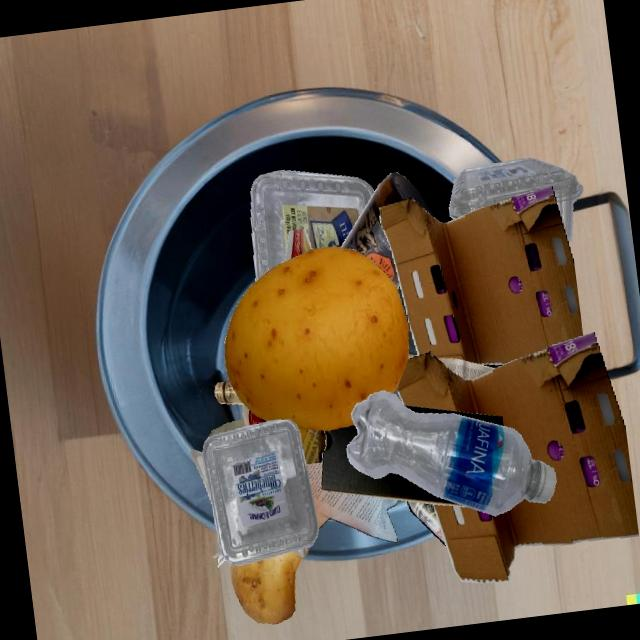biowaste: (224, 246, 408, 430), (229, 551, 302, 623)
cardboard: (396, 332, 638, 583), (378, 186, 583, 365), (320, 424, 469, 507)
glass: (340, 172, 433, 288), (214, 380, 244, 404)
metal: (406, 500, 446, 546)
paper: (244, 251, 325, 434), (190, 453, 299, 556), (306, 462, 398, 542), (392, 356, 460, 393), (206, 418, 245, 440)
plastic: (346, 390, 556, 515), (201, 419, 318, 565), (250, 170, 374, 281), (449, 157, 583, 242)
